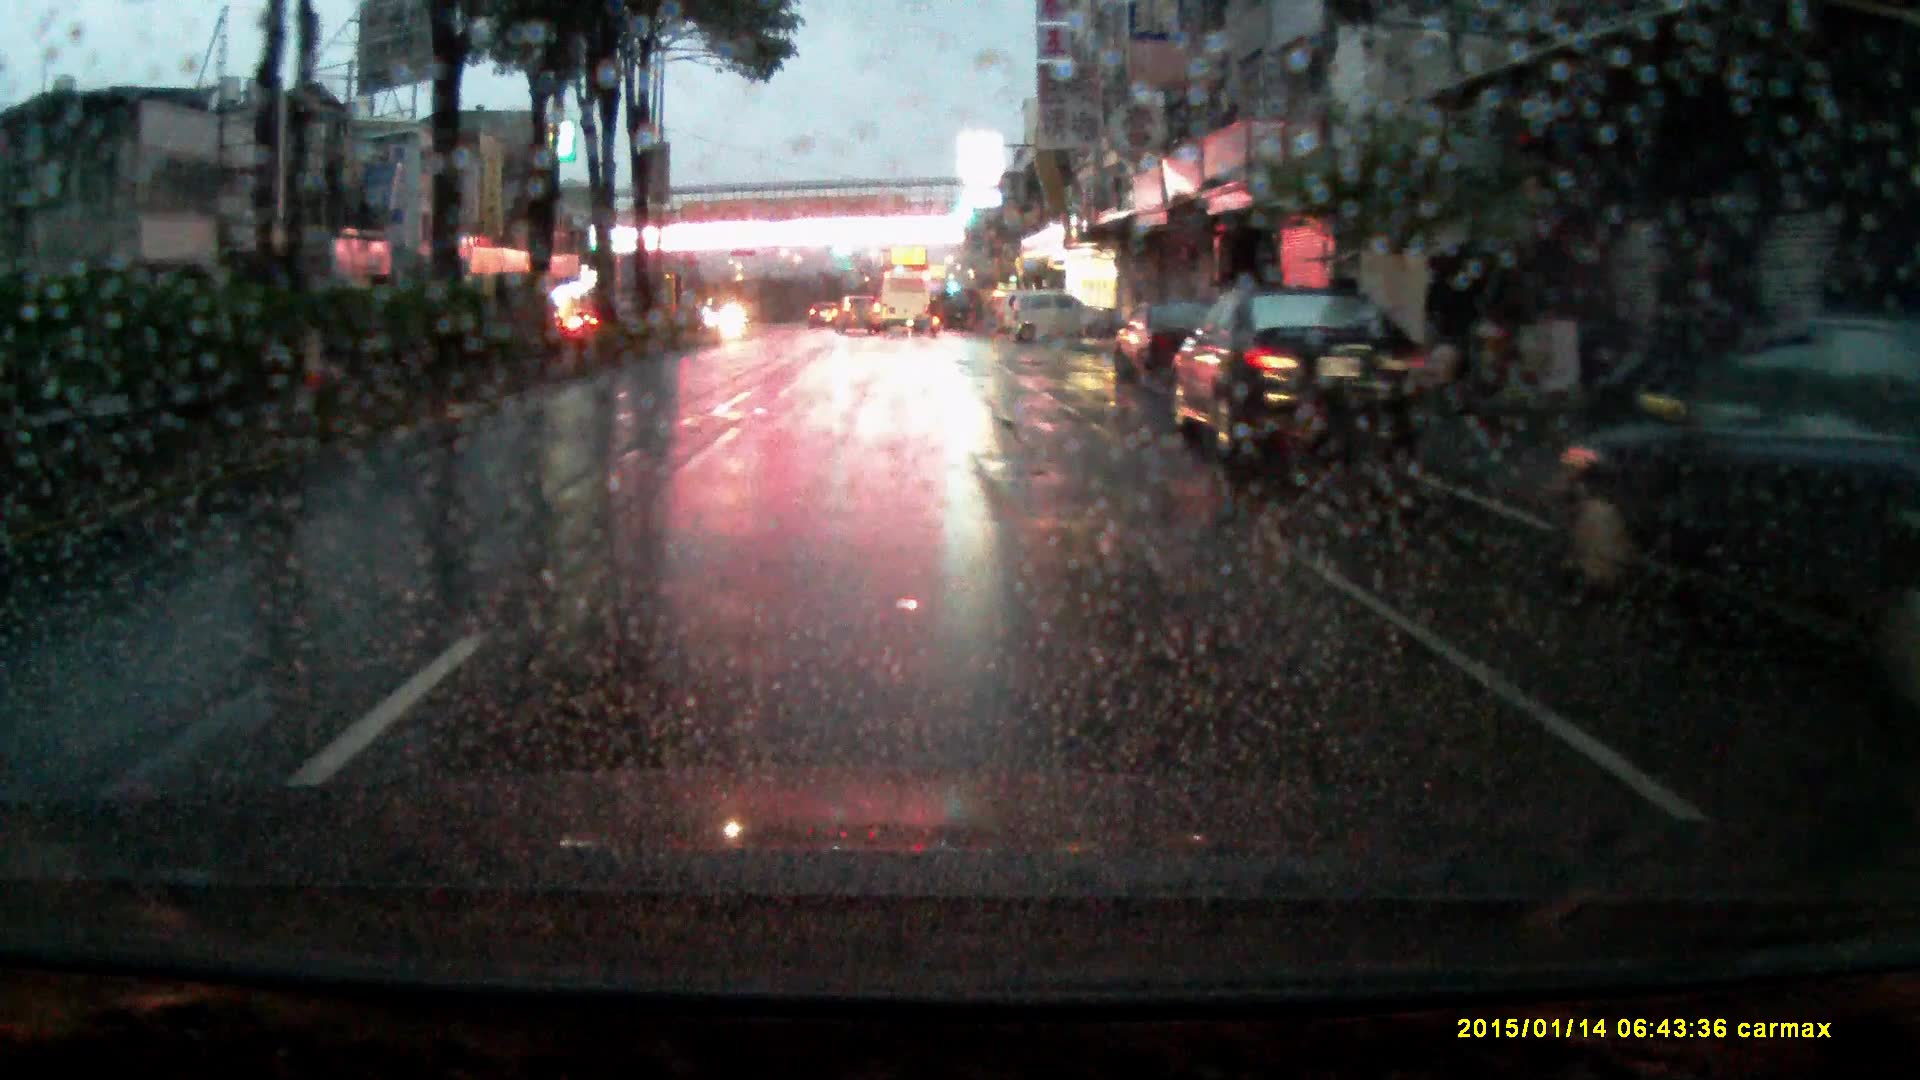vehicle: (1535, 340, 1920, 665), (1170, 284, 1439, 468), (1110, 301, 1224, 385), (1007, 291, 1112, 349), (868, 273, 932, 336), (835, 293, 884, 335), (808, 298, 841, 327)
